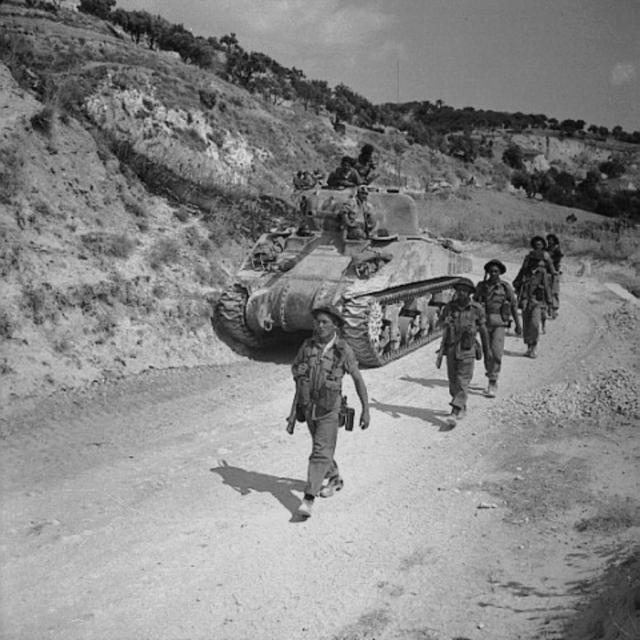tank: (212, 184, 488, 367)
